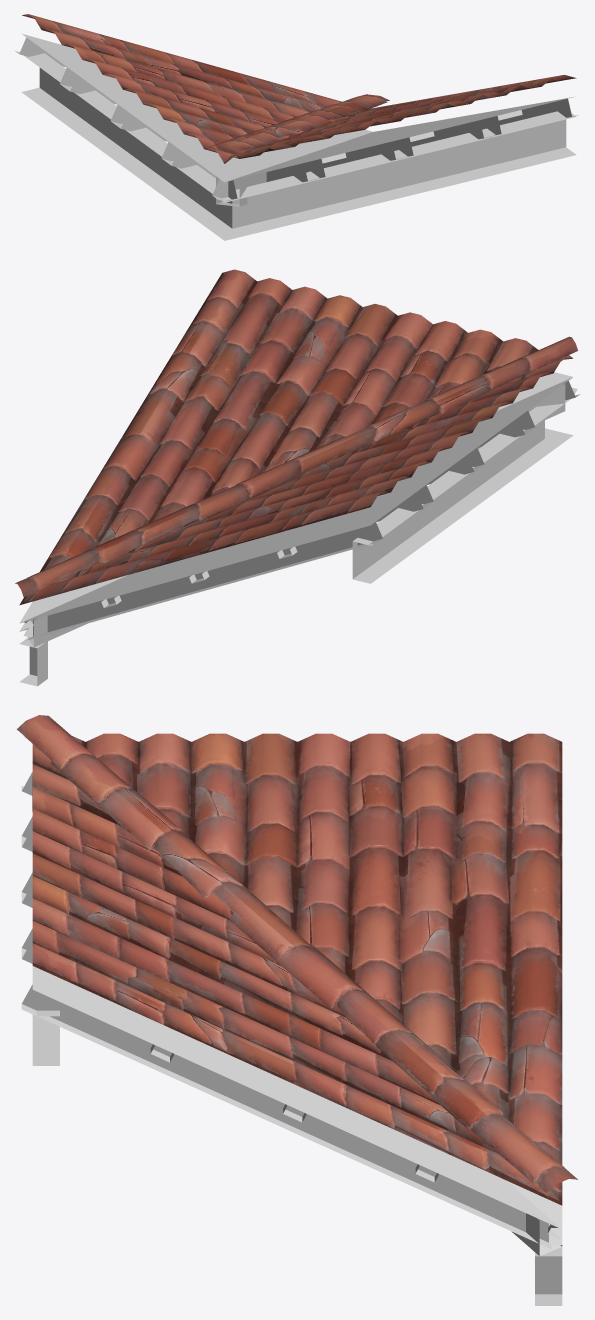
The model's file is WallKit_Valley_LOD0.fbx.
3 views of the same model, one above another, from view 1: azimuth 30°, elevation 25°; view 2: azimuth 150°, elevation 25°; view 3: azimuth 270°, elevation 25° (orthographic). The views are drawn at different scales.
Visible parts, largest first — view 1: WallKit_Valley_LOD0; view 2: WallKit_Valley_LOD0; view 3: WallKit_Valley_LOD0.
Part boxes in pixels (box(x1,y1,x2,y2)): WallKit_Valley_LOD0: box(14, 14, 577, 240); WallKit_Valley_LOD0: box(15, 269, 580, 686); WallKit_Valley_LOD0: box(17, 715, 577, 1305).
Size of the model in its own units: 428 by 303 by 428.
